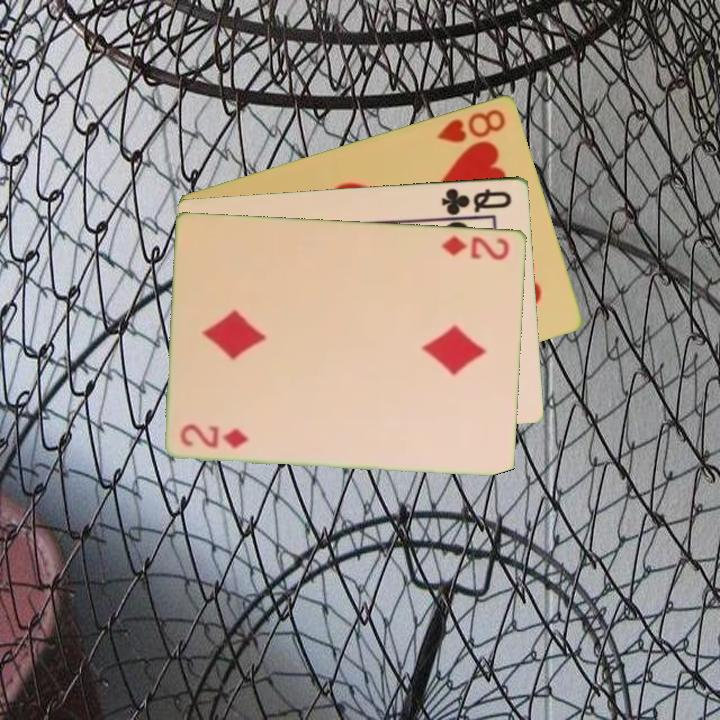2d: (439, 232, 513, 262), (177, 421, 251, 451)
8h: (433, 105, 509, 145)
Qc: (439, 184, 515, 218)
